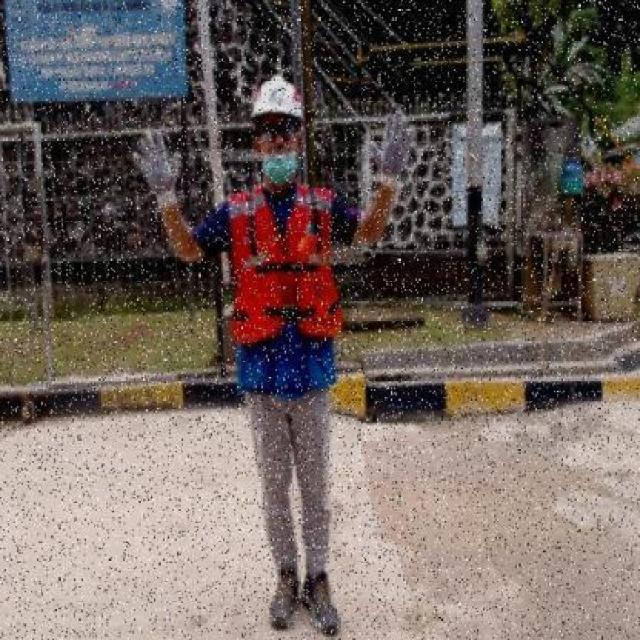Boots: (302, 569, 340, 636), (267, 565, 301, 630)
Gloves: (366, 110, 416, 192), (132, 127, 180, 211)
Helmet: (251, 73, 304, 122)
Mask: (260, 150, 298, 188)
Protective Glasses: (259, 122, 298, 141)
Vest: (229, 233, 343, 347)
